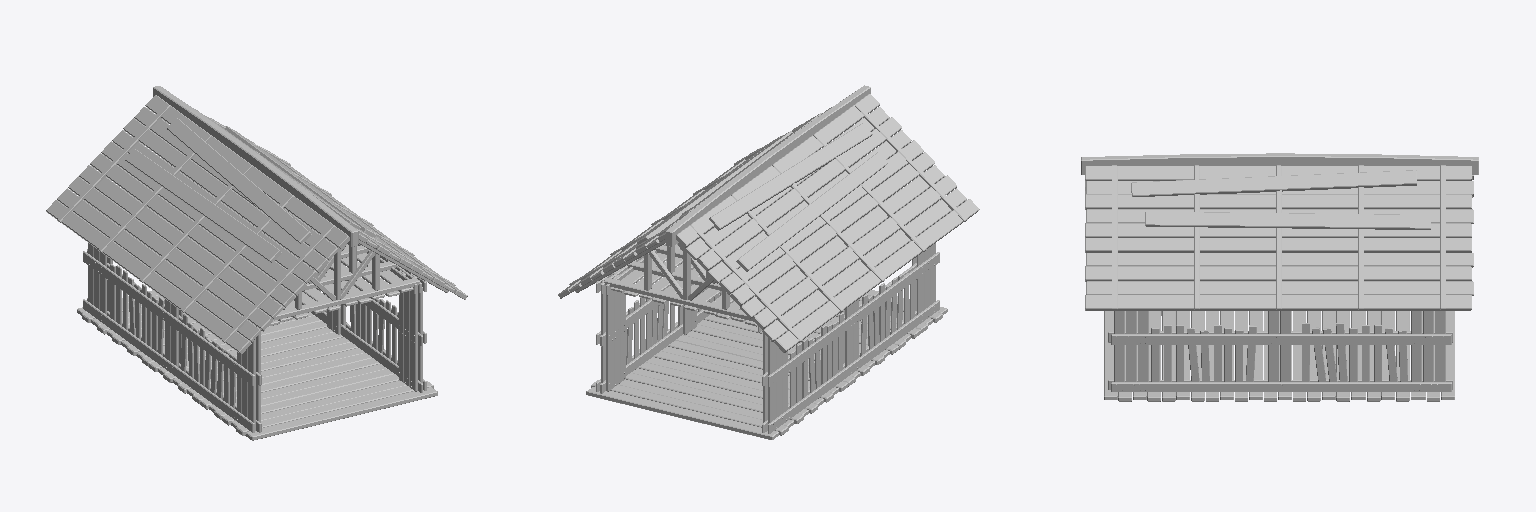
File: hut.obj
3 views of the same model, side by side, from view 1: azimuth 30°, elevation 25°; view 2: azimuth 150°, elevation 25°; view 3: azimuth 270°, elevation 25° (orthographic).
Parts seen in each view (by area): view 1: 001; view 2: 001; view 3: 001.
Boxes of the visible parts, x1,y1,x2,y2 form: 001: [46, 86, 467, 440]; 001: [558, 85, 979, 439]; 001: [1081, 153, 1478, 401].
Bounding box in the file's own units: 6.31 × 5.27 × 9.39.